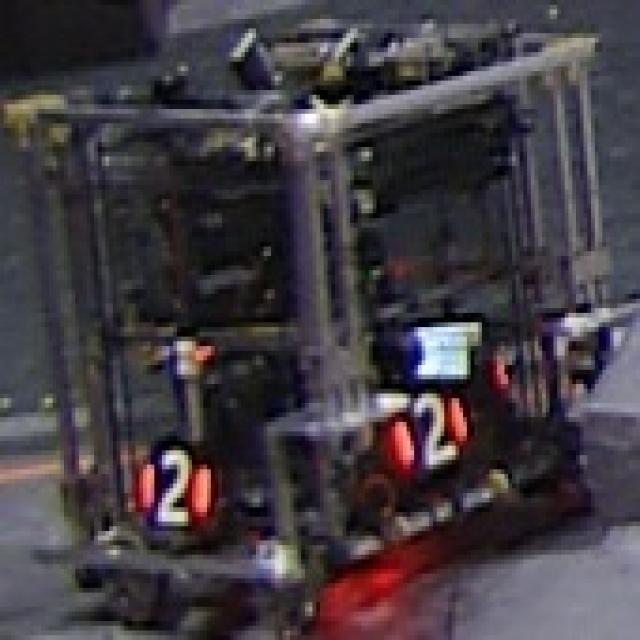R2: (388, 384, 474, 469), (136, 441, 214, 521)
